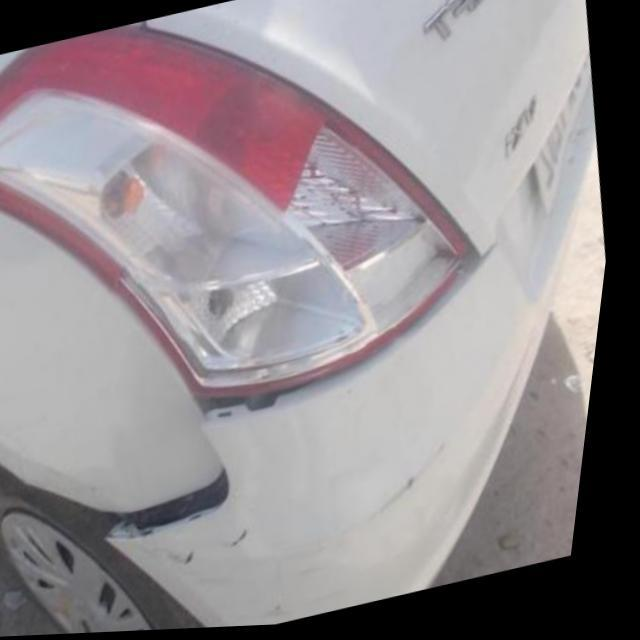dislocated part: (128, 466, 246, 545), (202, 373, 330, 428)
